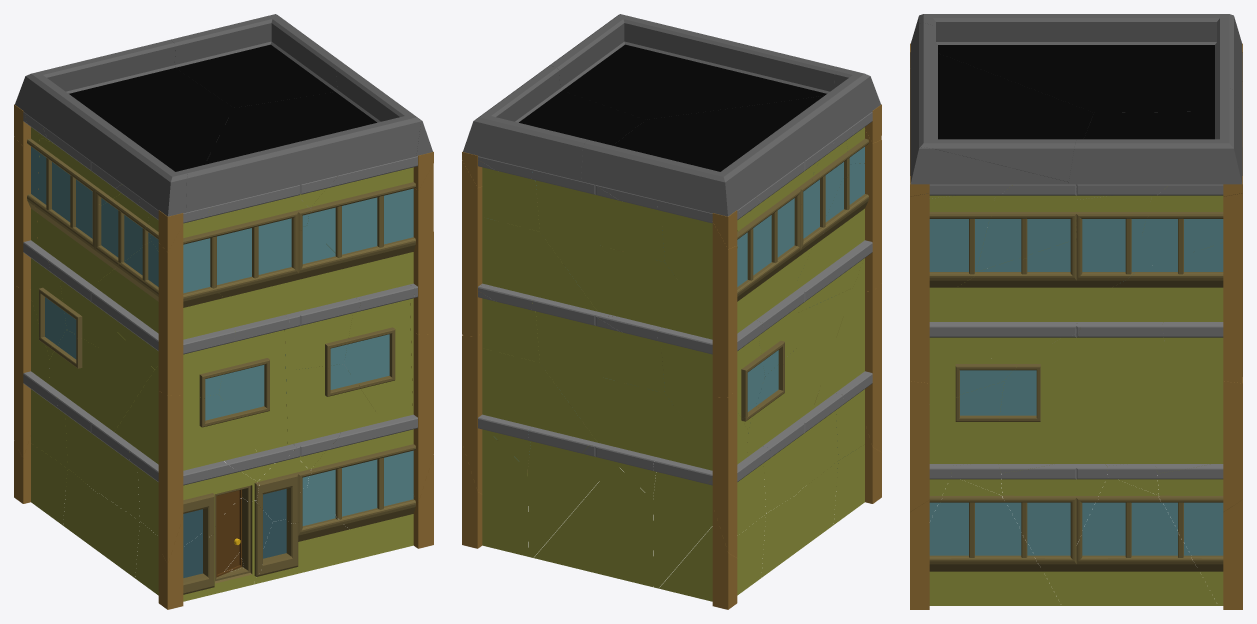
The model's file is Edificio_01.fbx.
The picture shows the model from 3 angles, left to right: view 1: azimuth 30°, elevation 25°; view 2: azimuth 150°, elevation 25°; view 3: azimuth 270°, elevation 25°; orthographic projection. The views are drawn at different scales.
Visible parts, largest first — view 1: Plane.025_cell.001, Plane.025_cell.003, Plane.043_cell.001, Plane.025_cell.002, Plane.043_cell.010, Plane.043_cell.006, Plane.030_cell.003, Plane.030_cell.007, Plane.045_cell.003, Plane.026_cell, Plane.030_cell.004, Cube.006_cell.002 (+41 smaller); view 2: Plane.025_cell.001, Plane.025_cell.003, Plane.025_cell.002, Plane.045_cell.003, Plane.041_cell.009, Plane.041_cell.005, Plane.041_cell, Plane.038_cell.001, Plane.041_cell.012, Plane.041_cell.013, Plane.041_cell.001, Plane.038_cell.007 (+42 smaller); view 3: Plane.025_cell.001, Plane.025_cell.003, Plane.025_cell.002, Plane.034_cell.009, Plane.034_cell.001, Plane.036_cell.003, Plane.037_cell.001, Plane.049_cell.002, Plane.049_cell.006, Plane.034_cell.005, Plane.036_cell, Plane.049_cell.007 (+21 smaller).
Part boxes in pixels (bbox=[...]): Plane.025_cell.001: bbox=[15, 40, 233, 216]; Plane.025_cell.003: bbox=[186, 66, 421, 212]; Plane.043_cell.001: bbox=[183, 185, 300, 323]; Plane.025_cell.002: bbox=[170, 14, 349, 107]; Plane.043_cell.010: bbox=[307, 414, 417, 554]; Plane.043_cell.006: bbox=[307, 156, 417, 292]; Plane.030_cell.003: bbox=[219, 315, 289, 452]; Plane.030_cell.007: bbox=[344, 284, 414, 421]; Plane.045_cell.003: bbox=[34, 137, 98, 289]; Plane.026_cell: bbox=[183, 498, 272, 601]; Plane.030_cell.004: bbox=[296, 364, 382, 442]; Cube.006_cell.002: bbox=[158, 225, 183, 395]; Plane.025_cell.001: bbox=[581, 70, 880, 216]; Plane.025_cell.003: bbox=[548, 14, 848, 119]; Plane.025_cell.002: bbox=[463, 65, 645, 181]; Plane.045_cell.003: bbox=[737, 177, 800, 333]; Plane.041_cell.009: bbox=[599, 246, 712, 339]; Plane.041_cell.005: bbox=[599, 377, 712, 470]; Plane.041_cell: bbox=[532, 297, 599, 442]; Plane.038_cell.001: bbox=[528, 427, 599, 557]; Plane.041_cell.012: bbox=[532, 169, 599, 311]; Plane.041_cell.013: bbox=[482, 217, 597, 311]; Plane.041_cell.001: bbox=[482, 348, 597, 442]; Plane.038_cell.007: bbox=[595, 454, 653, 587]; Plane.025_cell.001: bbox=[910, 14, 1242, 120]; Plane.025_cell.003: bbox=[910, 22, 1093, 182]; Plane.025_cell.002: bbox=[1068, 87, 1242, 184]; Plane.034_cell.009: bbox=[1076, 479, 1217, 605]; Plane.034_cell.001: bbox=[929, 479, 1061, 605]; Plane.036_cell.003: bbox=[1076, 322, 1168, 463]; Plane.037_cell.001: bbox=[992, 333, 1076, 463]; Plane.049_cell.002: bbox=[929, 241, 1076, 321]; Plane.049_cell.006: bbox=[1076, 243, 1223, 321]; Plane.034_cell.005: bbox=[1001, 464, 1076, 605]; Plane.036_cell: bbox=[1084, 391, 1223, 463]; Plane.049_cell.007: bbox=[1076, 195, 1151, 313].
Size of the model in its own units: 850 by 1300 by 850.
